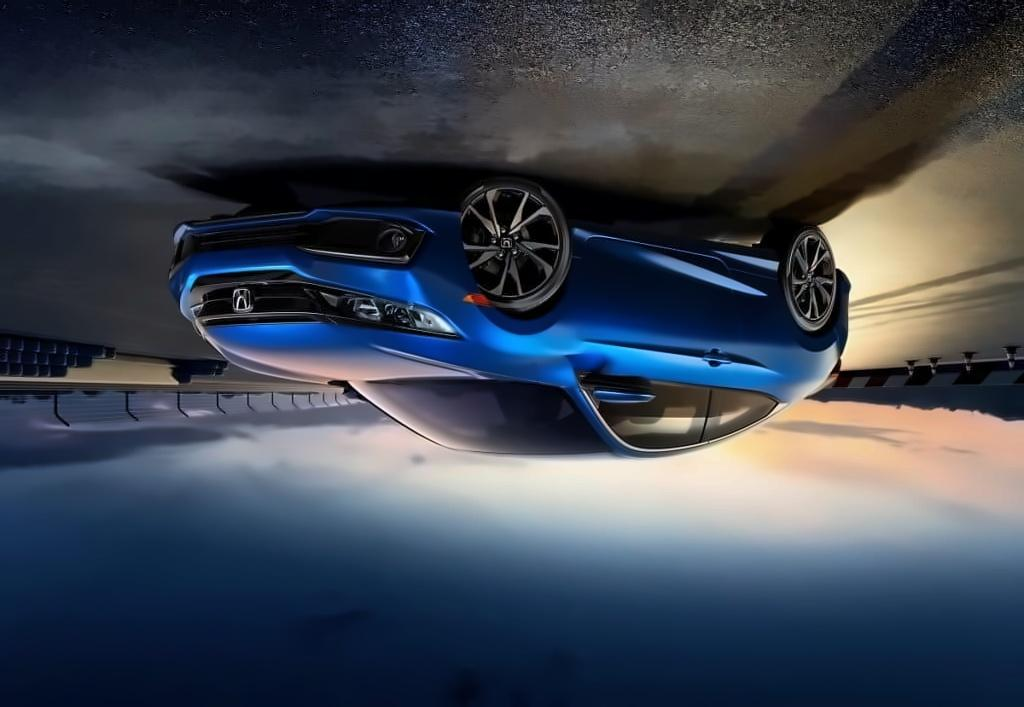Car hood: (183, 323, 473, 386)
Driver-s door - -F-R-: (585, 235, 735, 457)
Fender - -F-R-: (454, 225, 586, 391)
Fender - -R-R-: (750, 261, 834, 432)
Front bumper: (149, 195, 473, 293)
Headlight - -R-: (304, 279, 463, 345)
Rear bumper: (833, 266, 860, 346)
Rear light - -R-: (817, 350, 853, 395)
Side bumper - -R-: (560, 214, 783, 284)
Side mirror - -R-: (585, 374, 662, 410)
